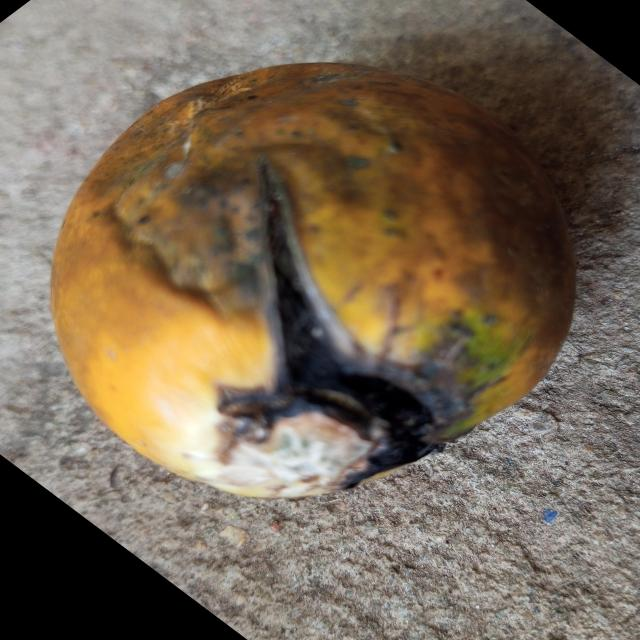damaged: (50, 62, 578, 502)
